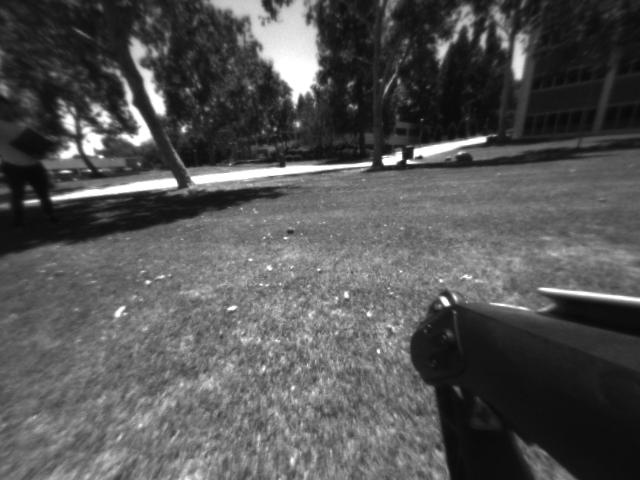dogtoy: (283, 224, 301, 240)
